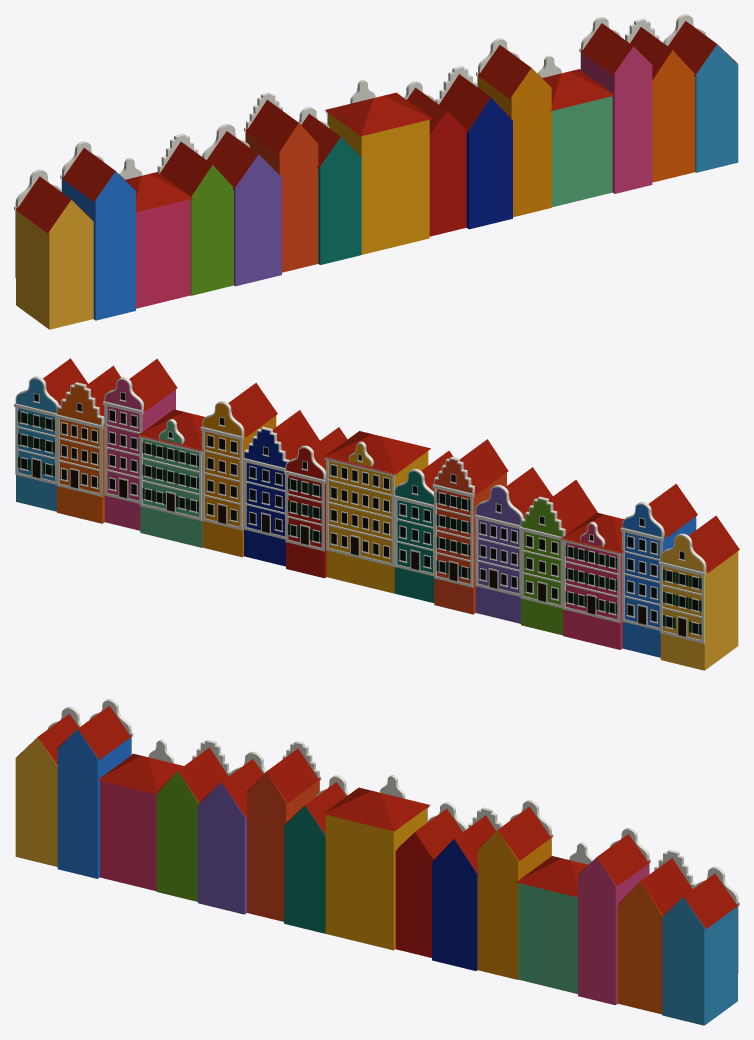
File: willemstad_houses.obj
3 renders of one model, top to bottom at view 1: azimuth 30°, elevation 25°; view 2: azimuth 150°, elevation 25°; view 3: azimuth 330°, elevation 25°, orthographic.
Parts seen in each view (by area): view 1: Roof, Wall8, Wall15, Wall14, Wall4, Wall3, Wall5, Wall10, Wall11, Wall13, Wall6, Trim (+5 smaller); view 2: Trim, Roof, Glass, Wall15, Wall8, Wall5, Wall2, Shutter, Wall14, Wall3, Wall11, Wall6 (+8 smaller); view 3: Roof, Wall8, Wall1, Wall14, Wall5, Wall4, Wall3, Wall10, Wall13, Wall11, Wall2, Wall6 (+5 smaller).
Part boxes in pixels (x1=…): Roof: x1=16, y1=21, x2=738, y2=233; Wall8: x1=328, y1=113, x2=429, y2=254; Wall15: x1=16, y1=200, x2=93, y2=329; Wall14: x1=62, y1=171, x2=135, y2=320; Wall4: x1=551, y1=96, x2=612, y2=207; Wall3: x1=581, y1=46, x2=652, y2=193; Wall5: x1=478, y1=68, x2=551, y2=217; Wall10: x1=246, y1=123, x2=318, y2=272; Wall11: x1=234, y1=154, x2=281, y2=286; Wall13: x1=136, y1=199, x2=190, y2=308; Wall6: x1=466, y1=97, x2=512, y2=229; Trim: x1=14, y1=14, x2=706, y2=277; Trim: x1=14, y1=376, x2=706, y2=643; Roof: x1=43, y1=358, x2=739, y2=572; Glass: x1=21, y1=392, x2=697, y2=633; Wall15: x1=660, y1=536, x2=738, y2=670; Wall8: x1=326, y1=444, x2=428, y2=593; Wall5: x1=202, y1=403, x2=276, y2=557; Wall2: x1=57, y1=385, x2=104, y2=523; Shutter: x1=18, y1=411, x2=701, y2=634; Wall14: x1=622, y1=504, x2=696, y2=657; Wall3: x1=104, y1=380, x2=175, y2=530; Wall11: x1=475, y1=487, x2=520, y2=623; Wall6: x1=244, y1=429, x2=286, y2=566; Roof: x1=15, y1=705, x2=737, y2=928; Wall8: x1=325, y1=808, x2=427, y2=950; Wall1: x1=662, y1=897, x2=737, y2=1025; Wall14: x1=57, y1=729, x2=131, y2=878; Wall5: x1=477, y1=830, x2=551, y2=979; Wall4: x1=518, y1=883, x2=577, y2=993; Wall3: x1=578, y1=857, x2=649, y2=1005; Wall10: x1=247, y1=771, x2=319, y2=921; Wall13: x1=100, y1=781, x2=156, y2=890; Wall11: x1=198, y1=782, x2=246, y2=914; Wall2: x1=617, y1=881, x2=662, y2=1014; Wall6: x1=432, y1=839, x2=477, y2=970.
Size of the model in its own units: 107 by 22.22 by 10.01.
